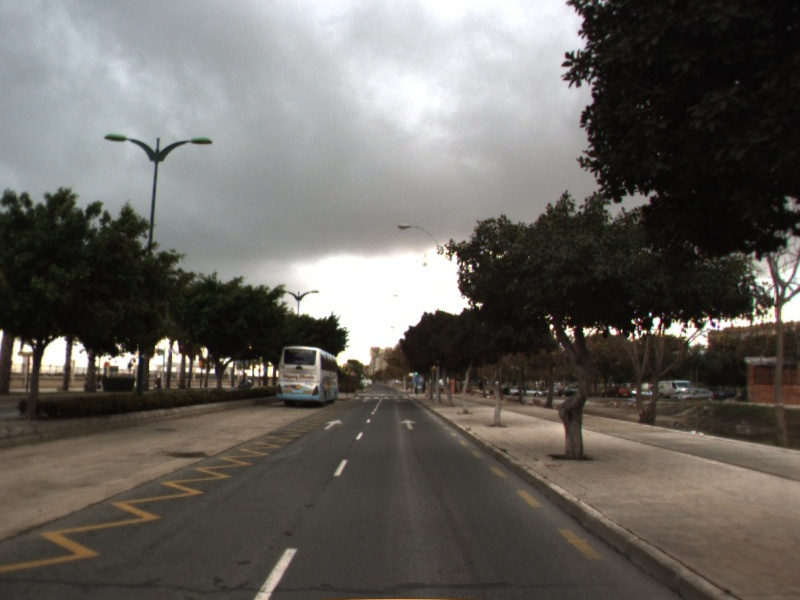STRAIGHT: (321, 417, 346, 432), (397, 417, 418, 432)
